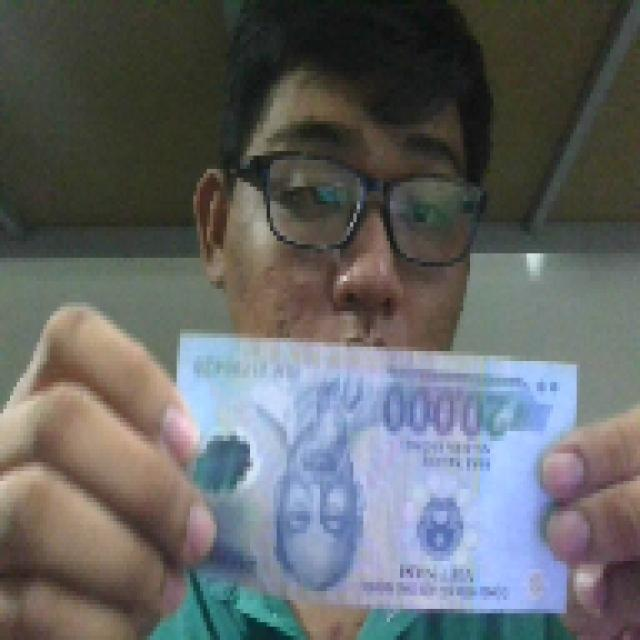20 000 VND: (167, 324, 583, 626)
